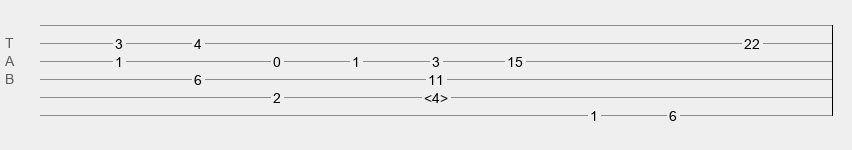0: (273, 54, 281, 64)
1: (115, 54, 123, 64), (352, 54, 360, 64), (590, 108, 598, 118)
11: (428, 72, 444, 82)
15: (507, 54, 523, 64)
2: (273, 90, 281, 100)
22: (744, 36, 760, 46)
3: (115, 36, 123, 46), (432, 54, 440, 64)
4: (194, 36, 202, 46)
6: (194, 72, 202, 82), (669, 108, 677, 118)
harmonic: (424, 90, 448, 100)
